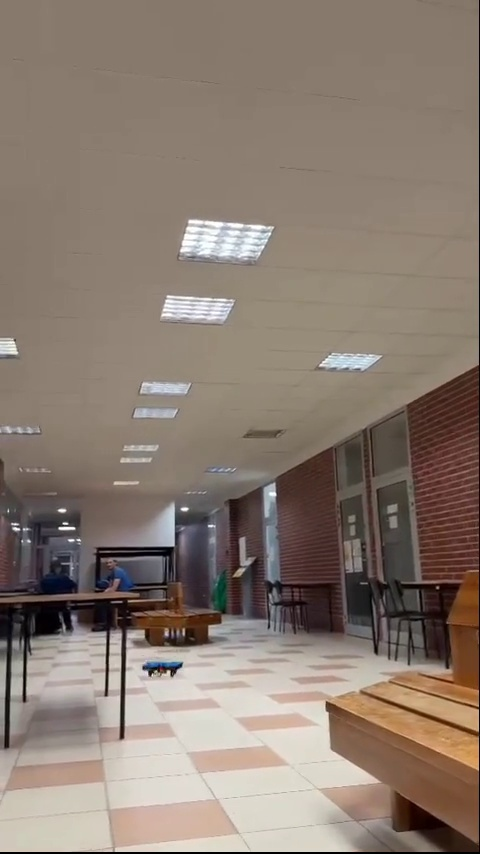drone: (143, 658, 185, 683)
no vest: (29, 554, 74, 614), (96, 556, 134, 611)
